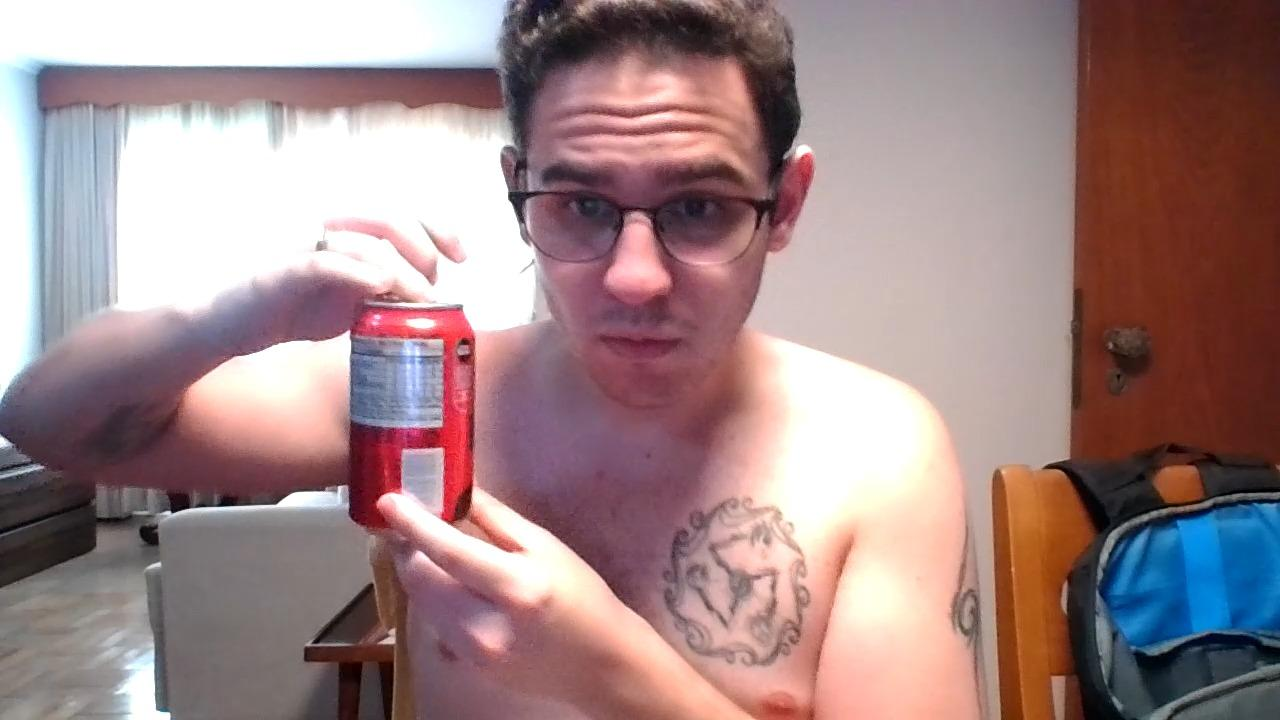coke: (349, 298, 480, 530)
